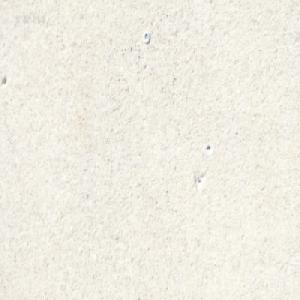Washer: (143, 31, 149, 43)
